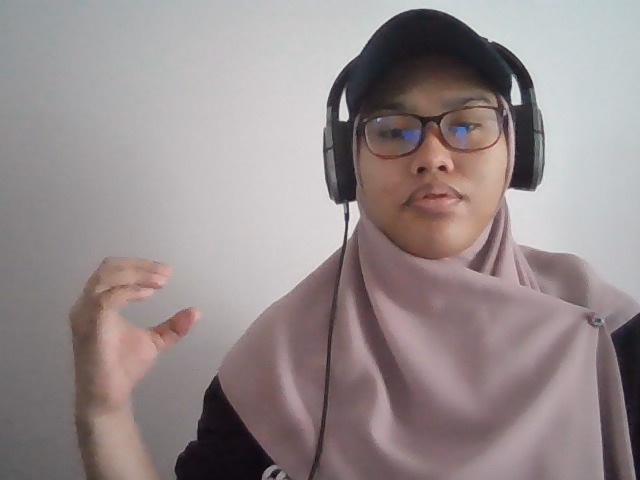c: (65, 250, 209, 421)
